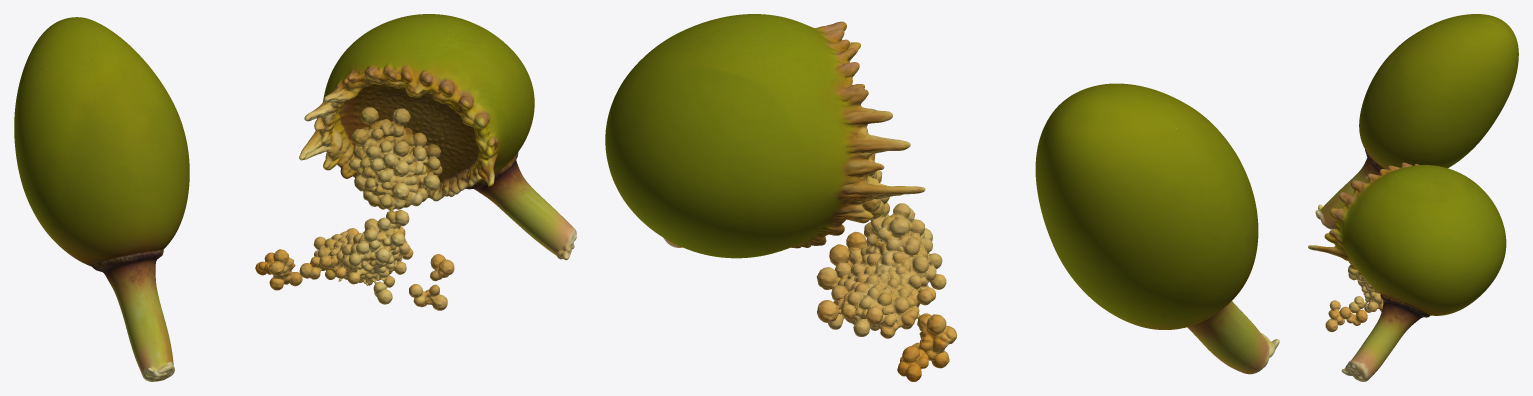
File: esporofito.glb
3 renders of one model, left to right at view 1: azimuth 30°, elevation 25°; view 2: azimuth 150°, elevation 25°; view 3: azimuth 270°, elevation 25°, orthographic. The views are drawn at different scales.
Bounding box in the file's own units: 2 × 1.09 × 0.9527.
1 material, 1 textured.
